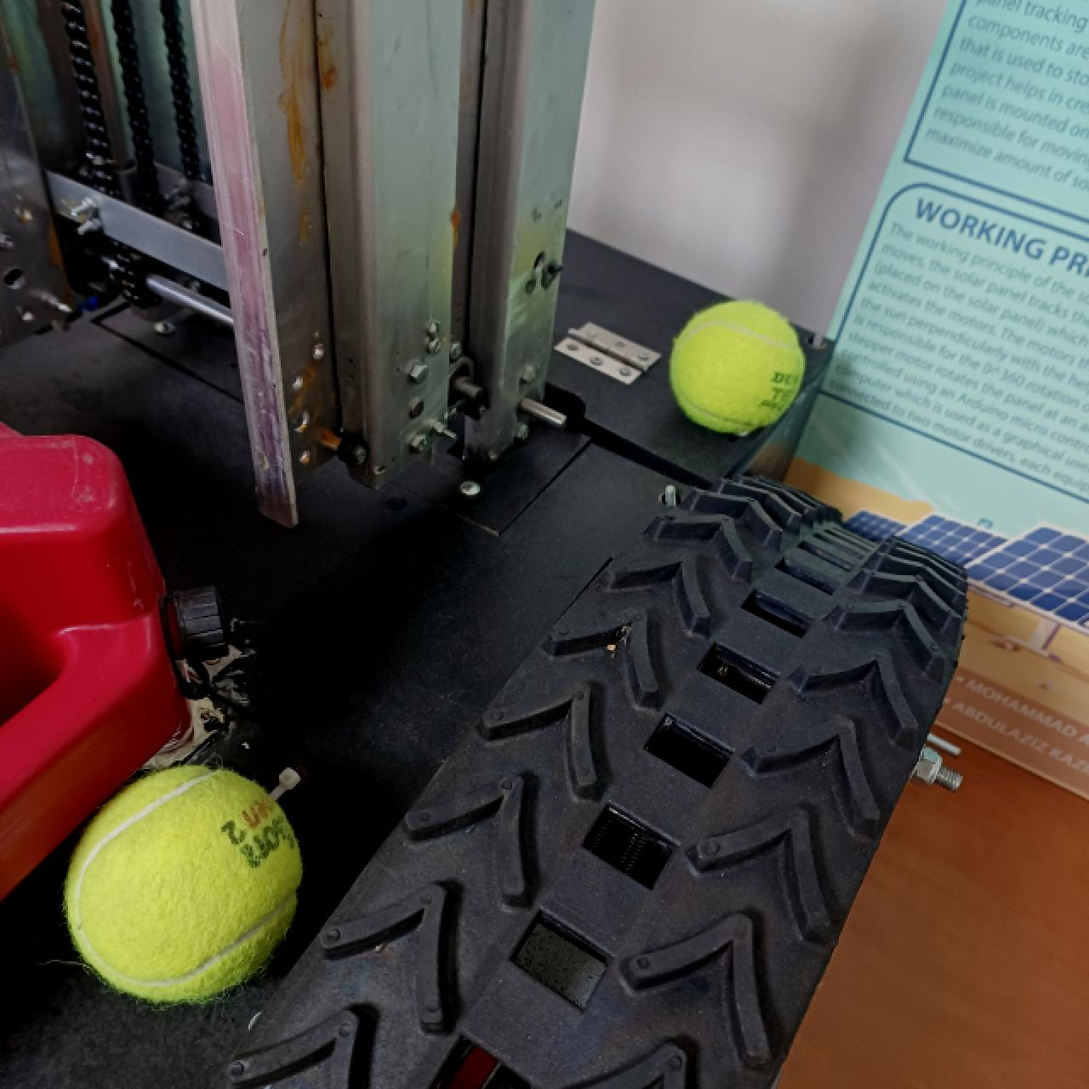tennis-ball: (59, 761, 309, 1007), (665, 297, 806, 433)
